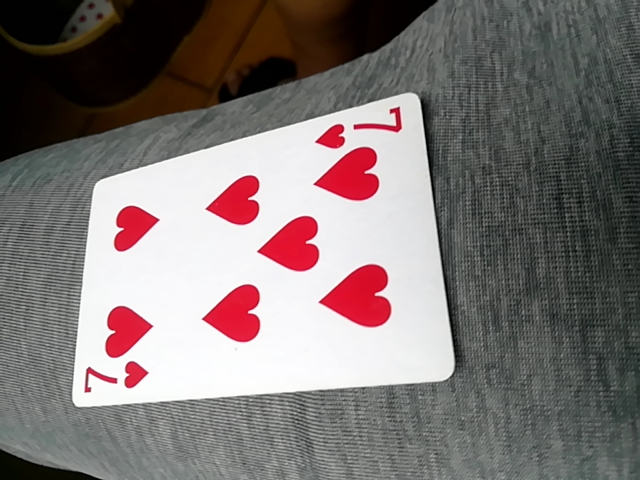hx 7: (77, 93, 454, 409)
